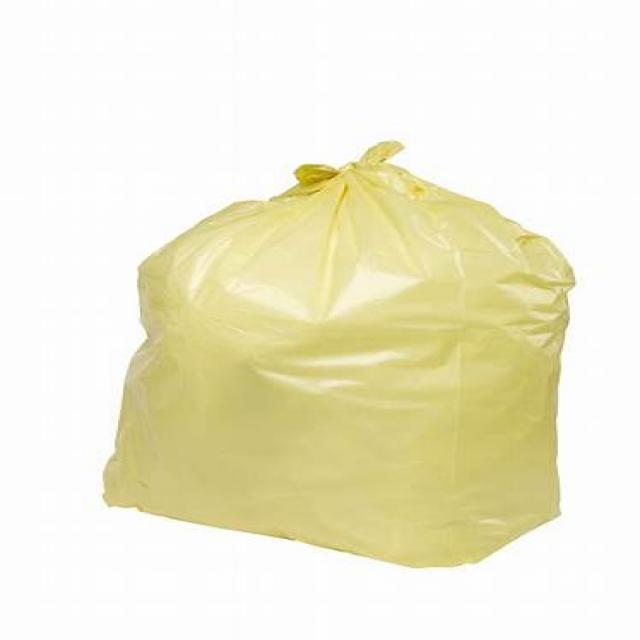waste: (107, 142, 564, 564)
